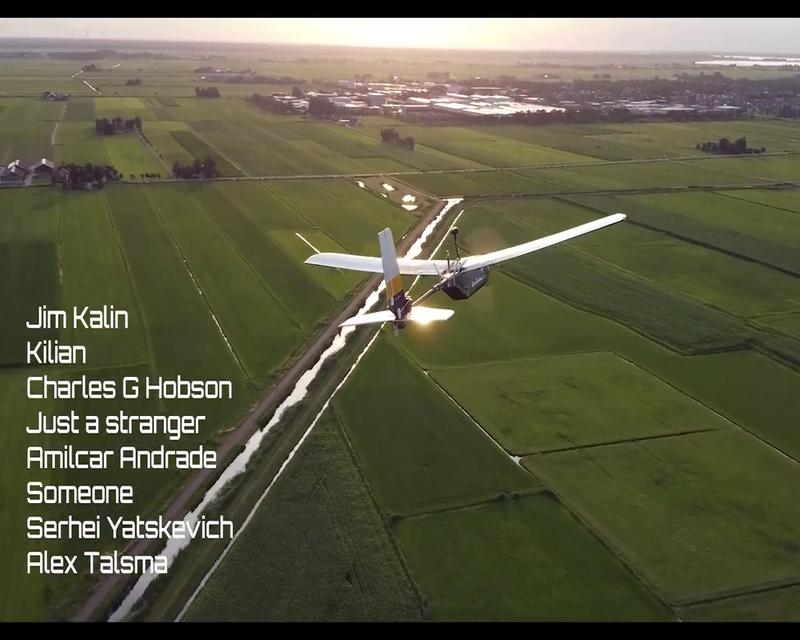UAV: (305, 212, 628, 339)
